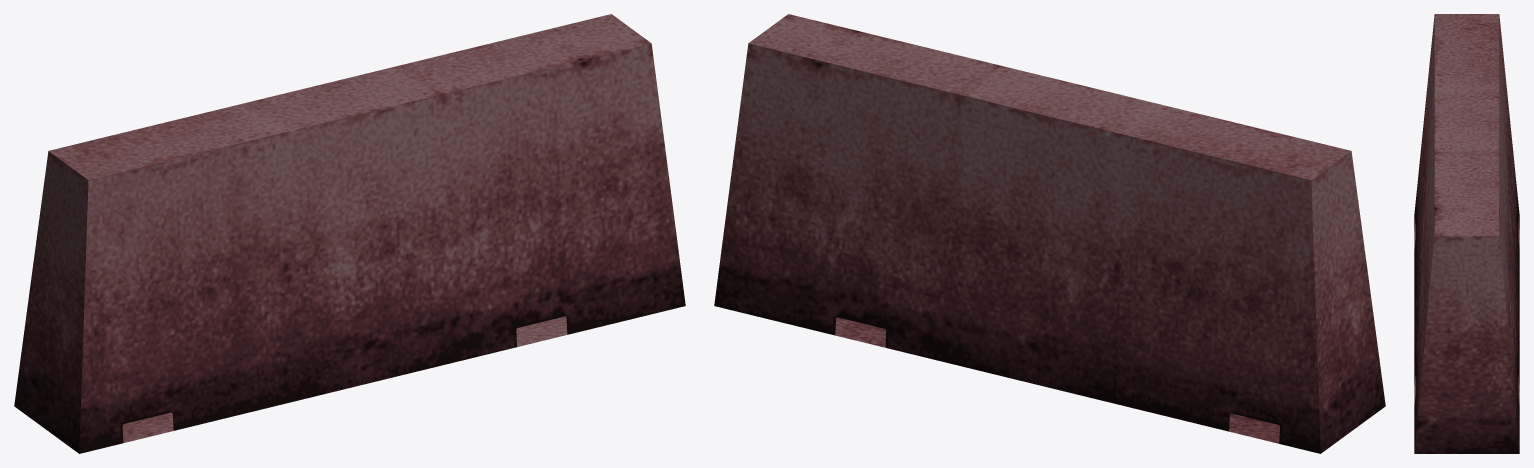
Rendered from SM_EC_Traffic_Block_1.fbx.
The picture shows the model from 3 angles, left to right: view 1: azimuth 30°, elevation 25°; view 2: azimuth 150°, elevation 25°; view 3: azimuth 270°, elevation 25°; orthographic projection. The views are drawn at different scales.
Visible parts, largest first — view 1: SM_EC_Traffic_Block_1; view 2: SM_EC_Traffic_Block_1; view 3: SM_EC_Traffic_Block_1.
Boxes of the visible parts, x1,y1,x2,y2 form: SM_EC_Traffic_Block_1: [14, 14, 685, 453]; SM_EC_Traffic_Block_1: [714, 14, 1385, 453]; SM_EC_Traffic_Block_1: [1414, 14, 1519, 453].
Size of the model in its own units: 3.59 by 0.667 by 1.46.
